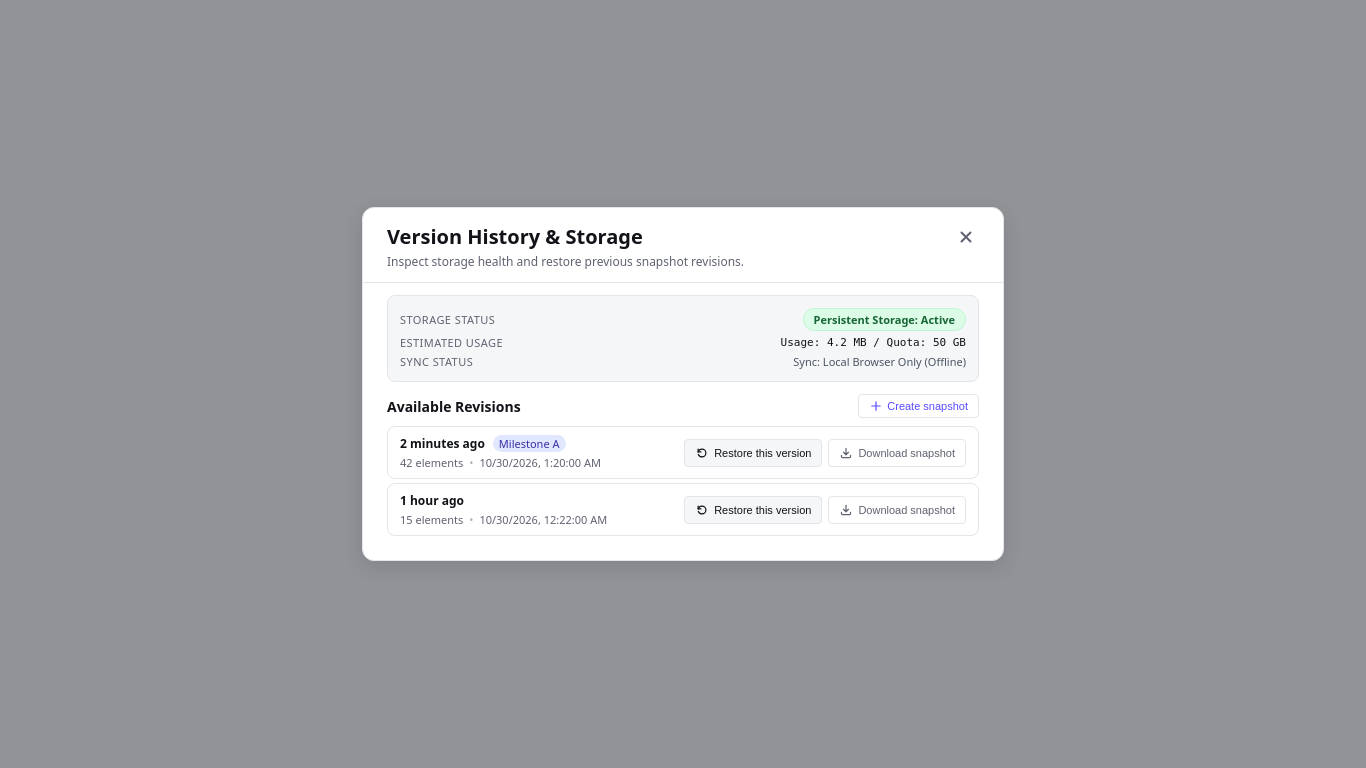
Test: VersionHistoryModal › restores a revision when 'Restore this version' button is clicked
expect the list item with test id "revision-item-rev-1" is shown: met, box 387,426 -> 979,479
What coordinates should you click on to do the following:
click the button "Restore this version" next to "10/30/2026, 1:20:00 AM"
I would click on:
 (753, 452)
Its box is 684,438 -> 822,466.
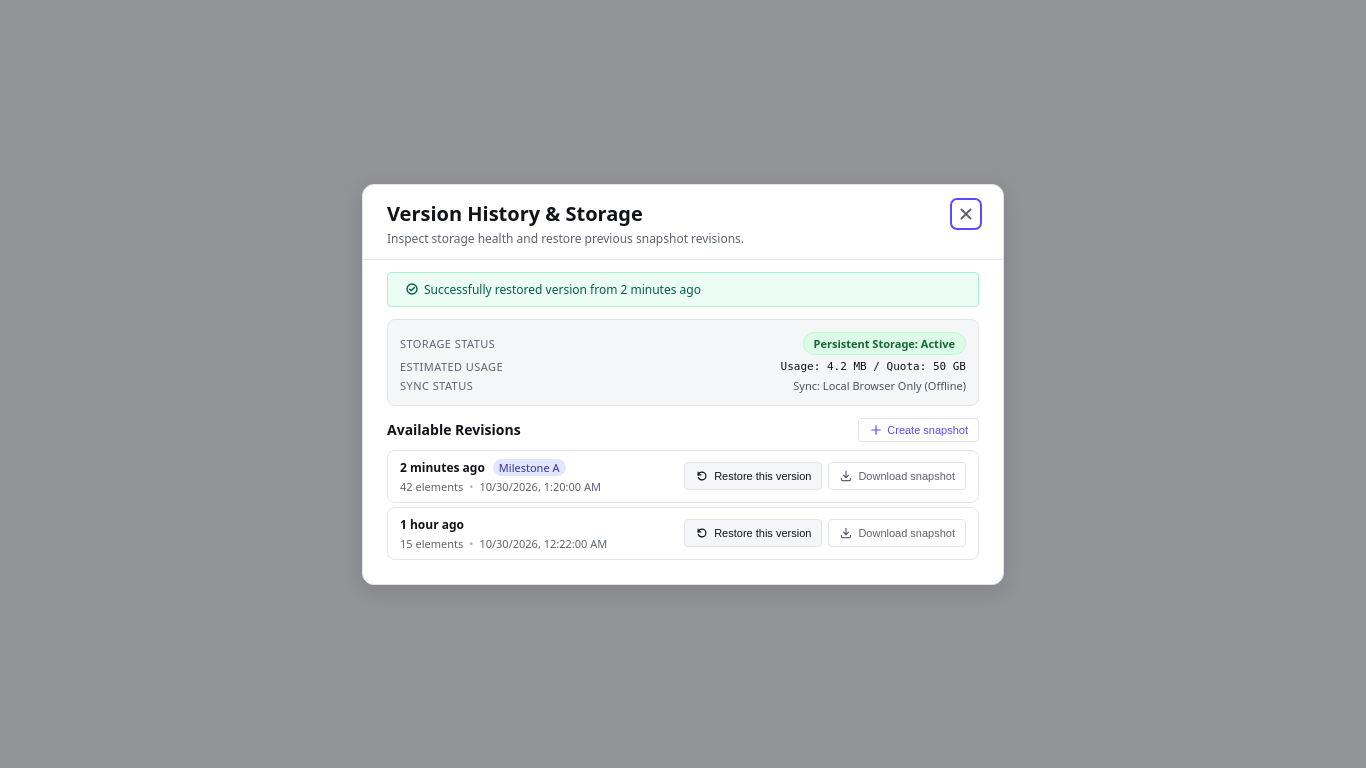
expect the text "Successfully restored version from 2 minutes ago" is shown: met, box 424,280 -> 701,298
